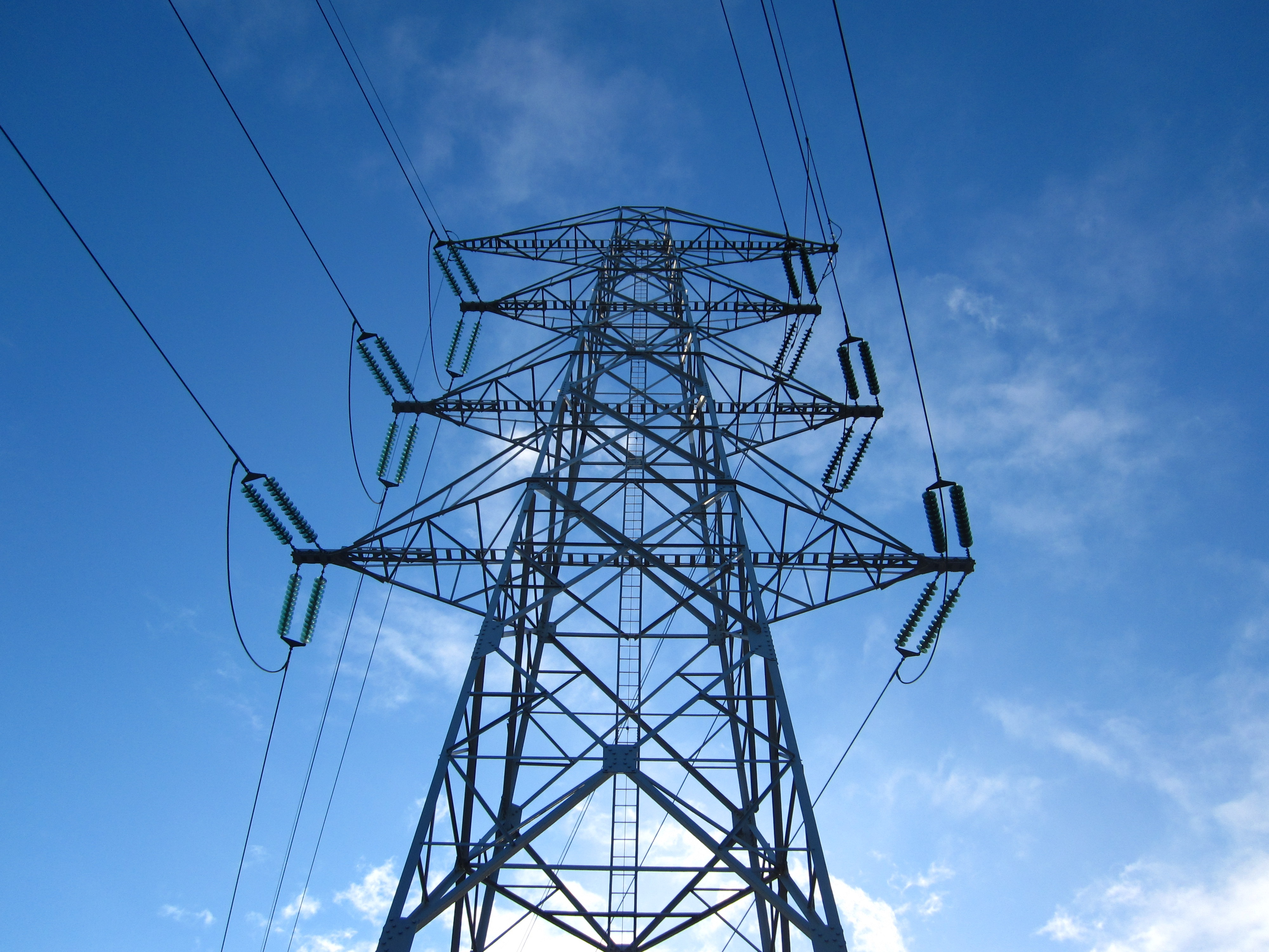insulator: (238, 463, 328, 553), (343, 312, 415, 407), (905, 469, 977, 557), (897, 578, 970, 660), (273, 566, 330, 657), (427, 235, 487, 309), (819, 426, 882, 495), (829, 334, 886, 407), (377, 417, 425, 497), (767, 320, 821, 378), (443, 315, 487, 383), (778, 244, 822, 301)
